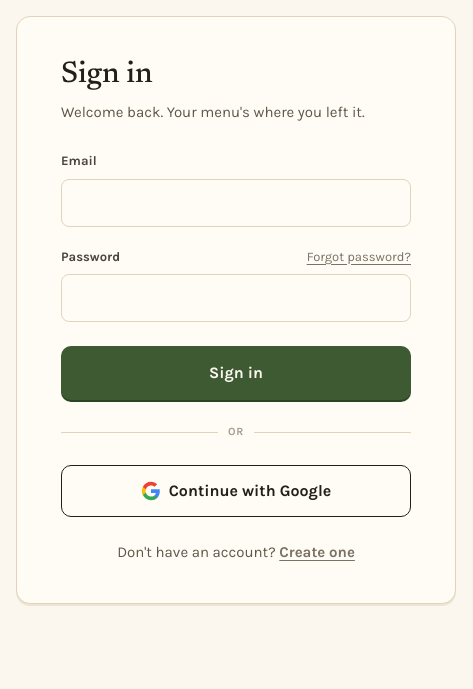
Scenario: LoginPage › shows a wrong password in the banner, not a toast
The width and height of the screenshot is (473, 689).
Type "jamie@example.com" into the field labelled "Email" at (236, 202), box [61,178,411,226]
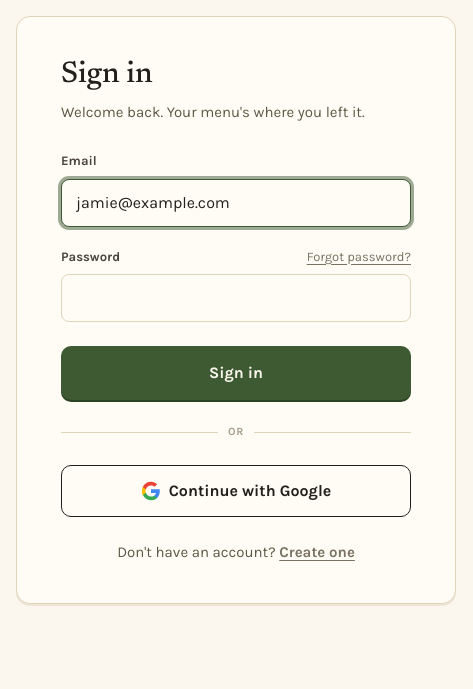
Type "wrong-password" into the password field labelled "Password" at (236, 298), box [61,274,411,322]
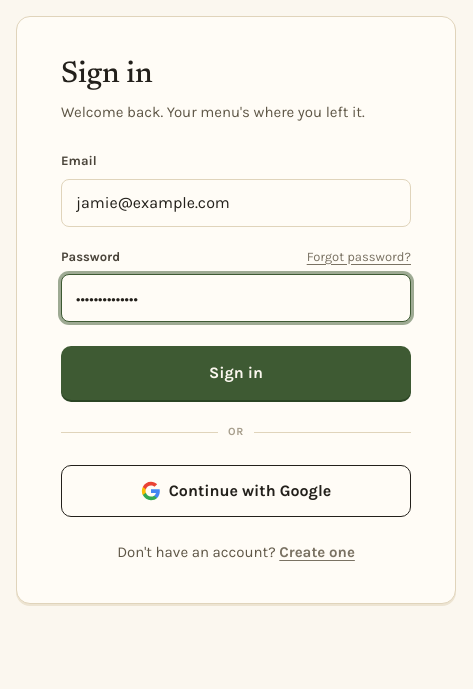
Click the button "Sign in" at (236, 373), box [61,346,411,400]
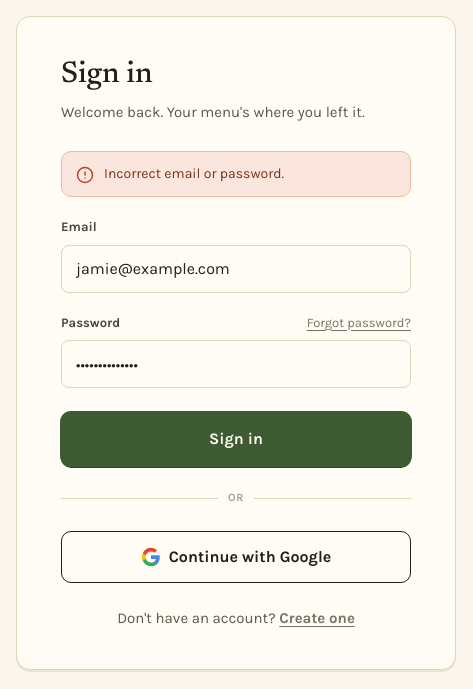
Expected: the message reads "Incorrect email or password.", [104,165,284,182]
